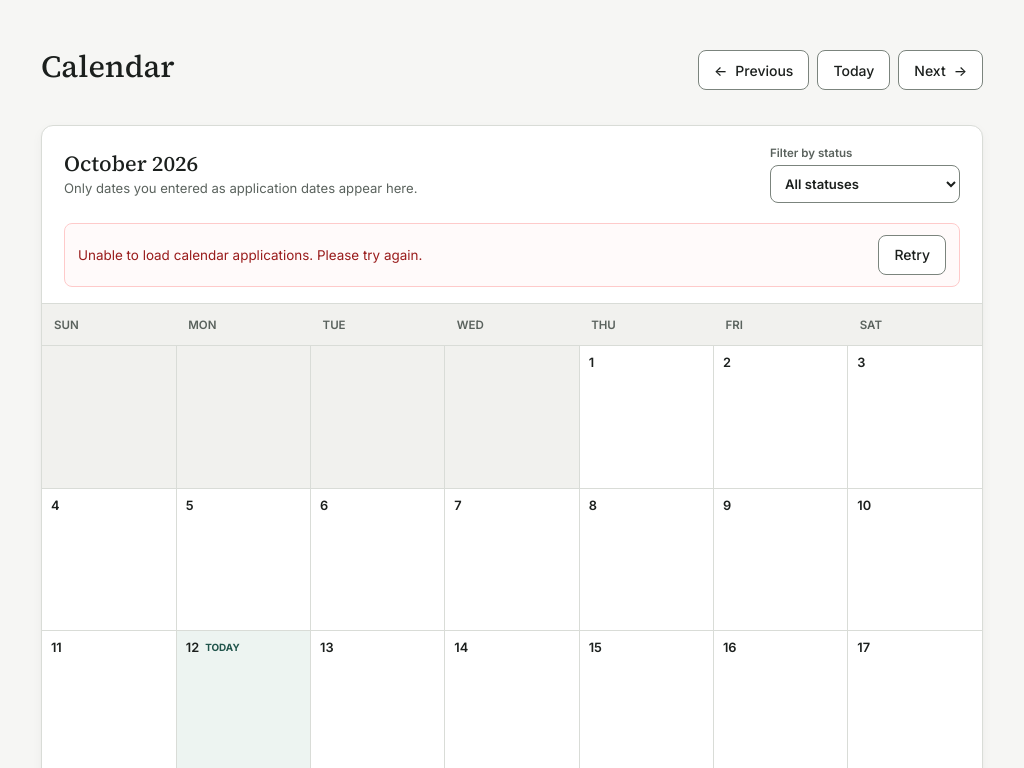
Test: Calendar › shows a retry action after an API error
Expected: the message shows "Unable to load calendar", [78,247,422,263]
Click the button "Retry" at x=912, y=255, box [878,235,946,275]
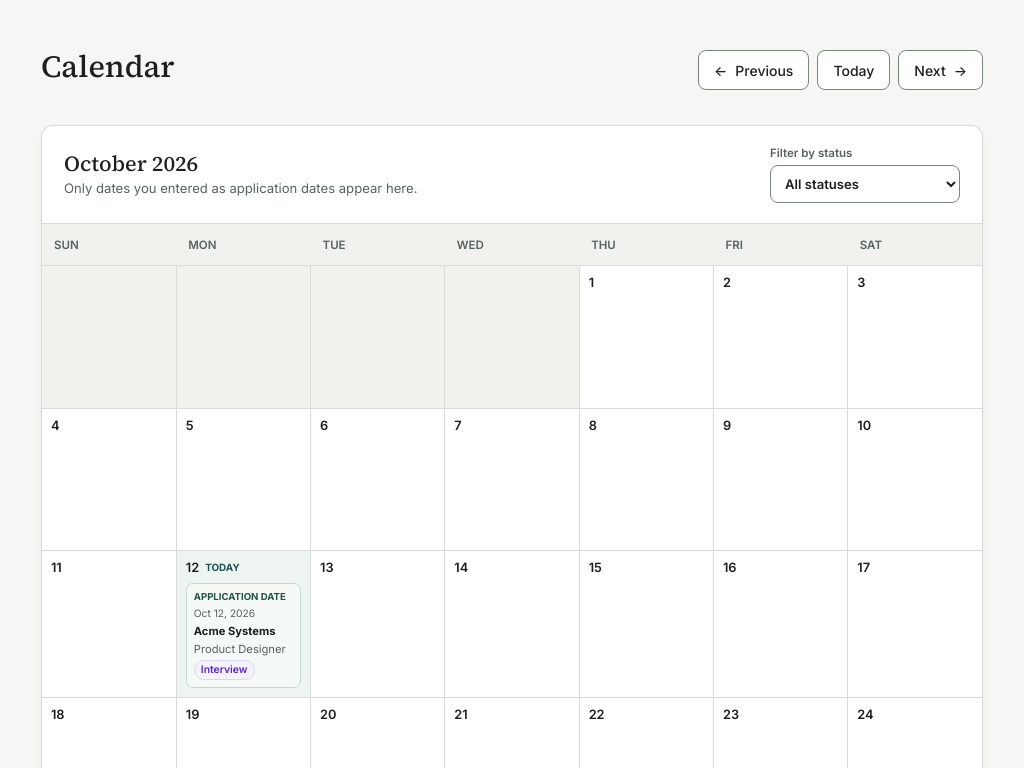
Expected: the text "Acme Systems" is shown, [194,624,276,639]
